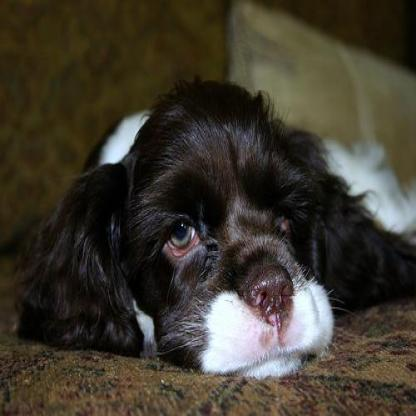cocker_spaniel: (15, 76, 414, 379)
